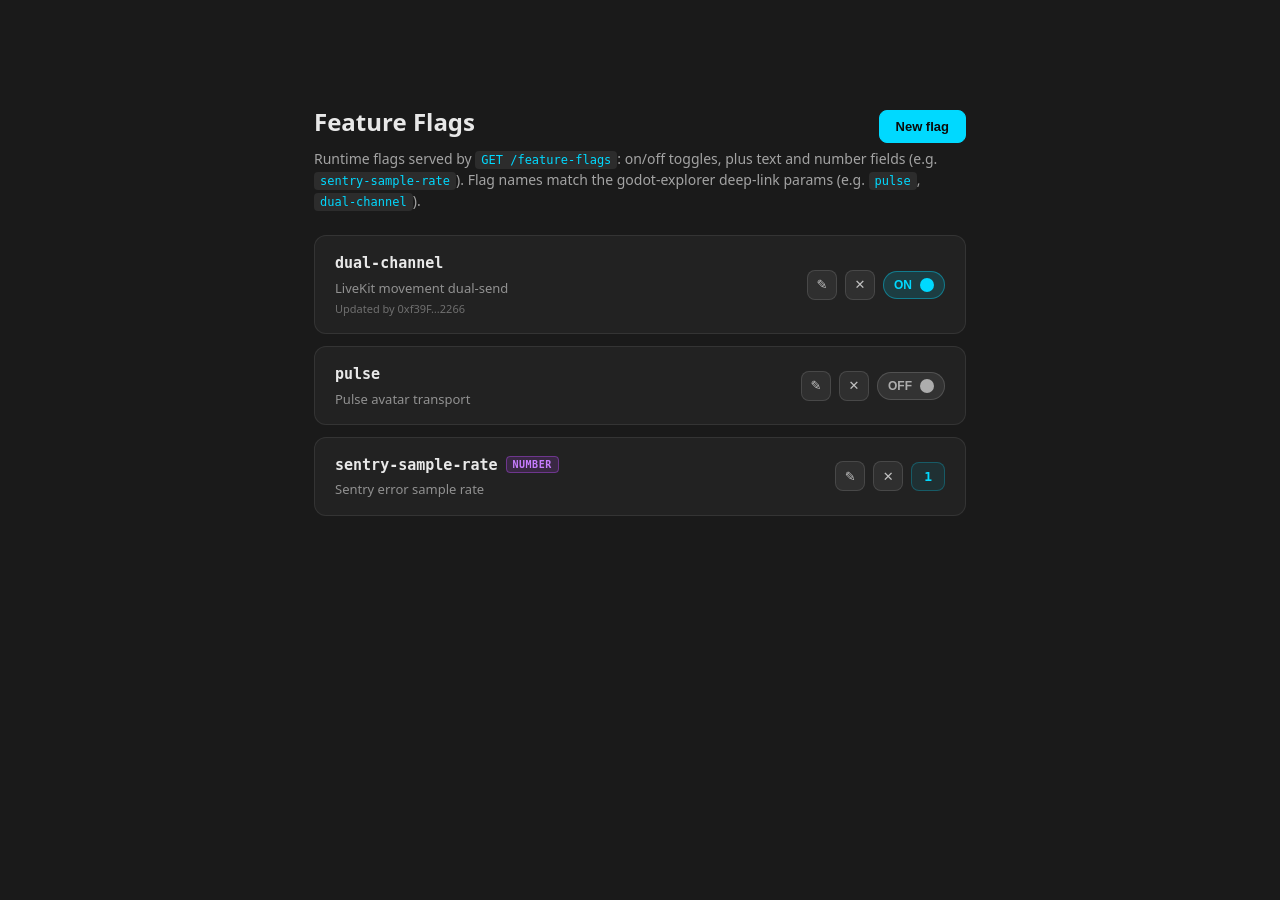
FeatureFlagsPage › saves a toggle on confirm and re-renders from the returned flag
Click the switch named "Toggle pulse": (911, 386) [877,372,945,400]
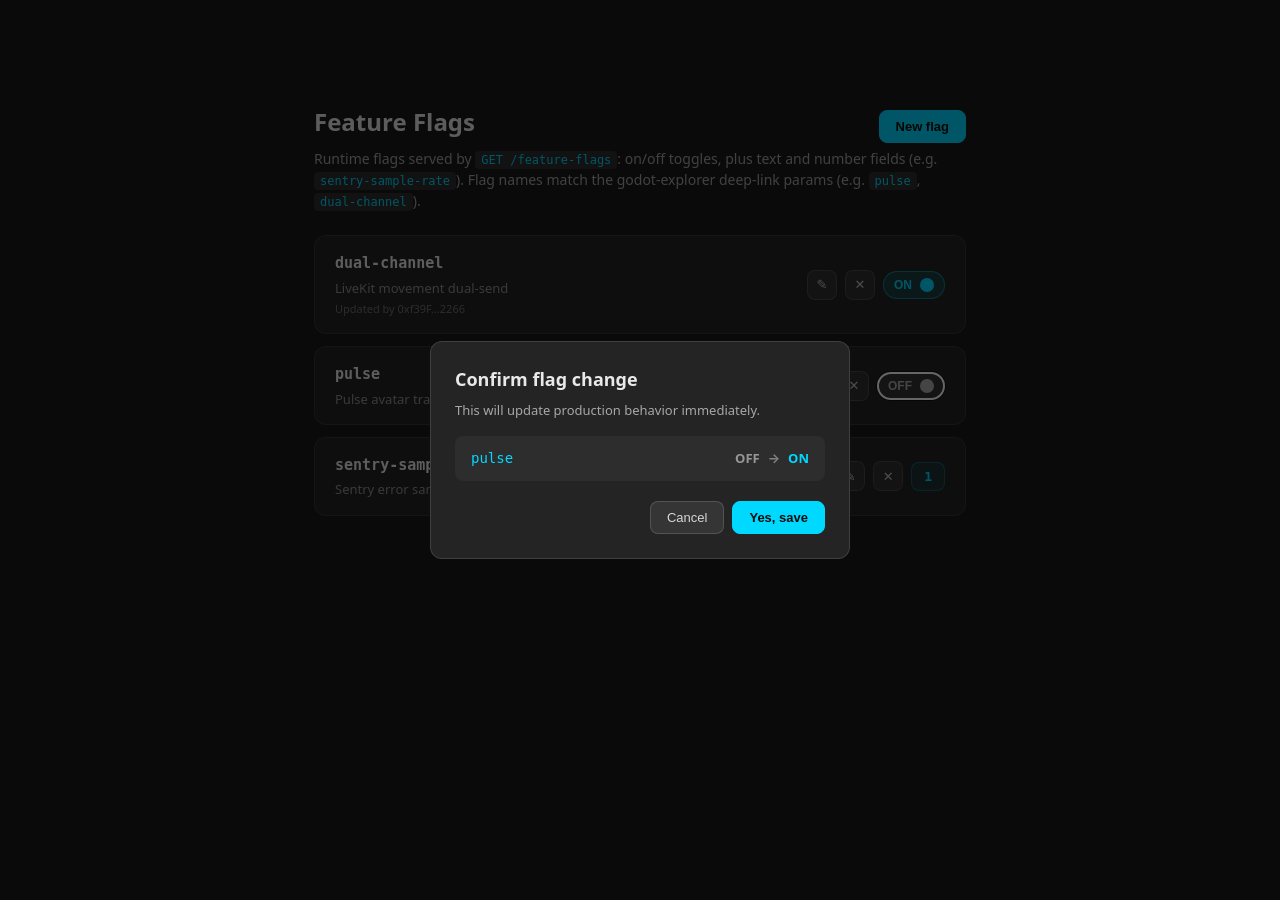
Click the button "Yes, save": (779, 518) [732,501,825,534]
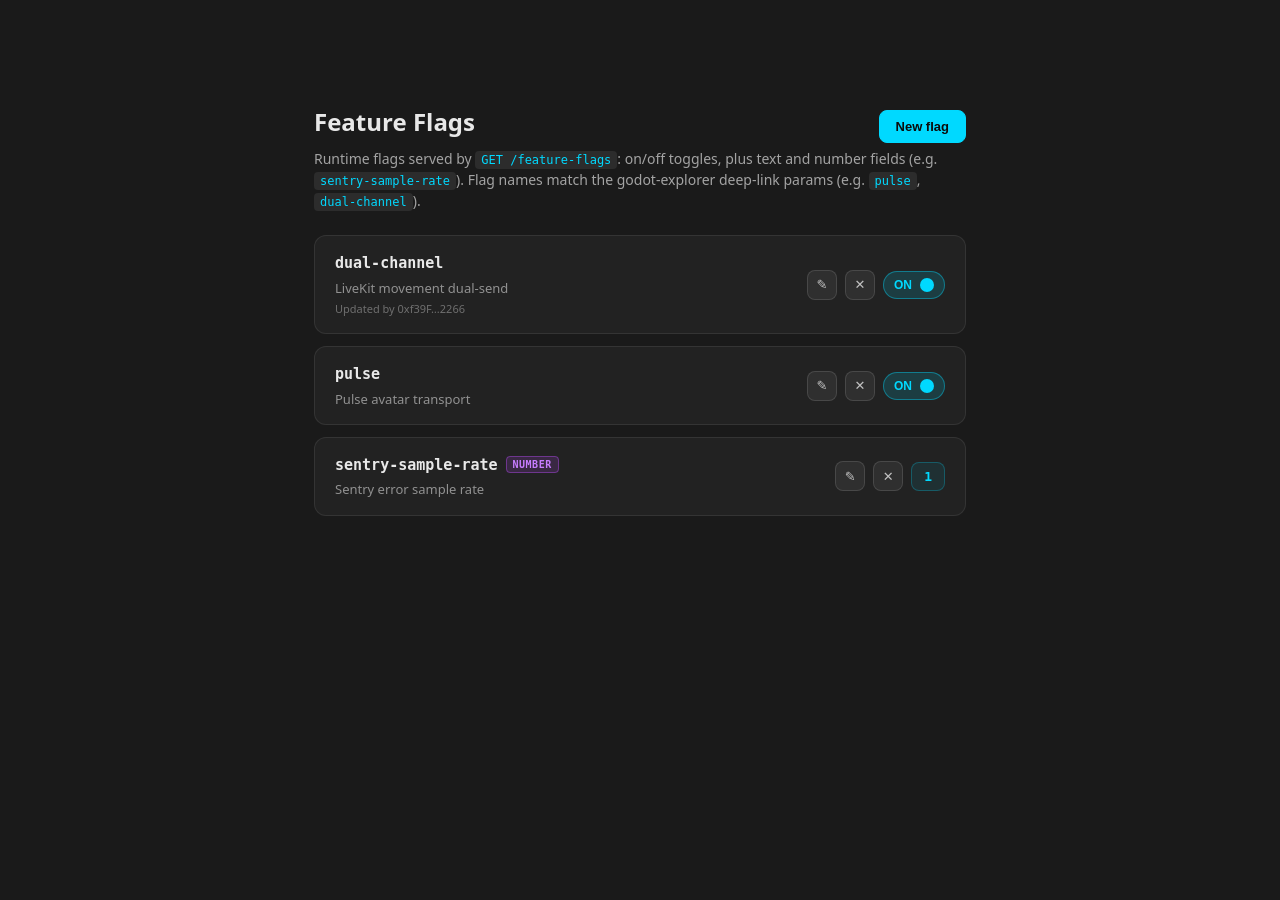
Result: the dialog is gone
